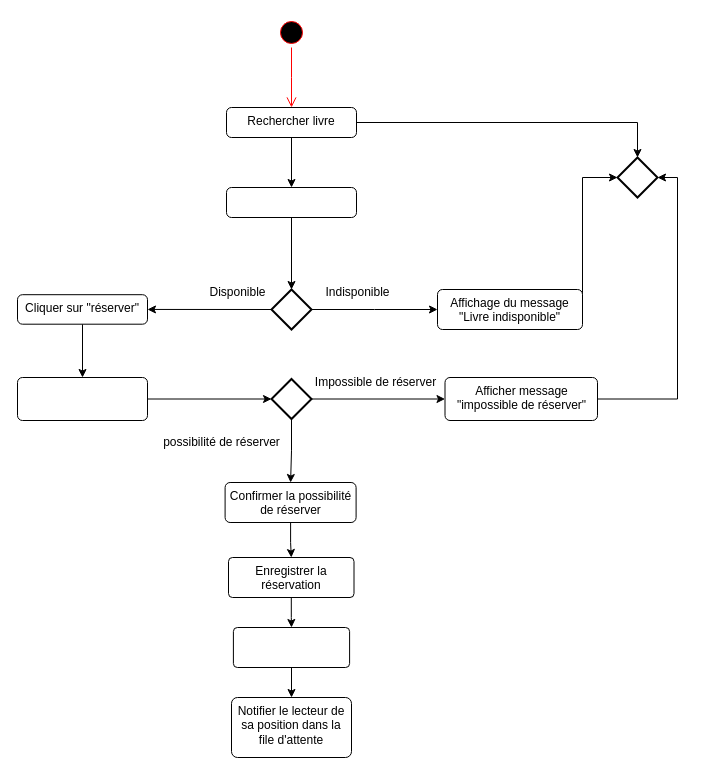
The diagram is 703 pixels wide and 775 high, and some of its shapes have lost their labels. The shapes that lost their labels are listed below. From the top down, each one's box as (x1, y1, x2, y2) in pixels, then its label:
(226, 186, 356, 218): Vérifier disponibilité
(16, 376, 148, 420): Verifier la possibilite de reserver
(232, 626, 350, 668): Confirmer enregistrement
